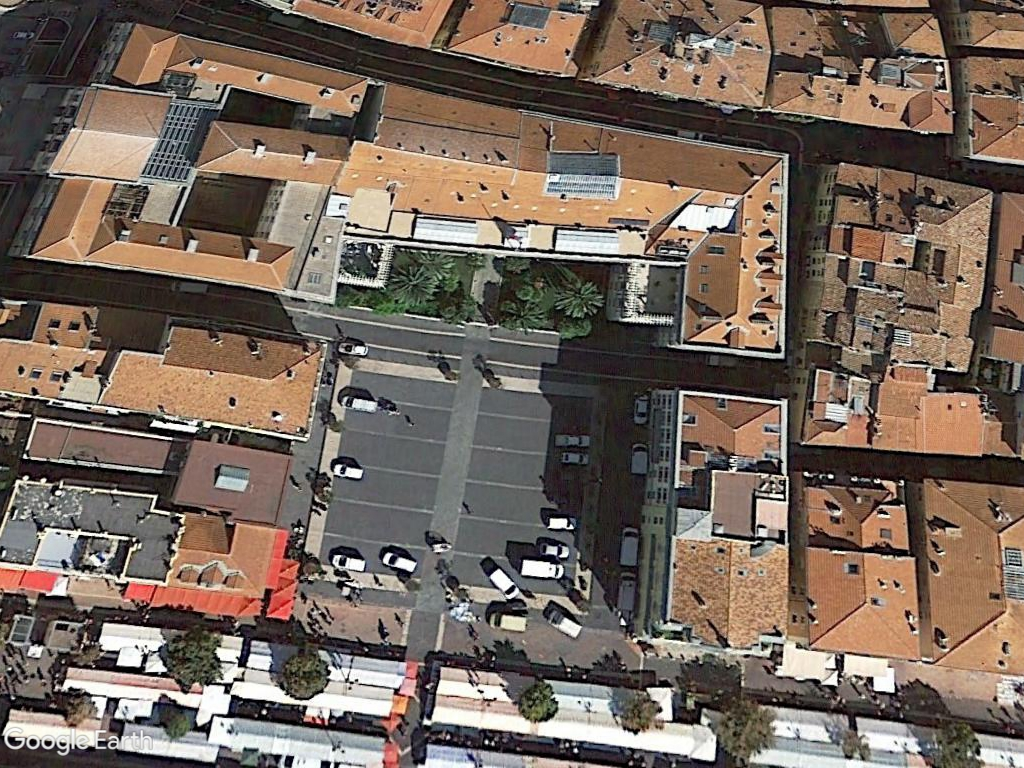car: (379, 548, 419, 574), (330, 551, 369, 573), (330, 459, 367, 482), (336, 340, 372, 358), (547, 515, 581, 532)
van: (520, 556, 566, 582), (487, 610, 531, 635), (619, 522, 639, 572), (616, 572, 636, 613), (631, 439, 649, 478)
